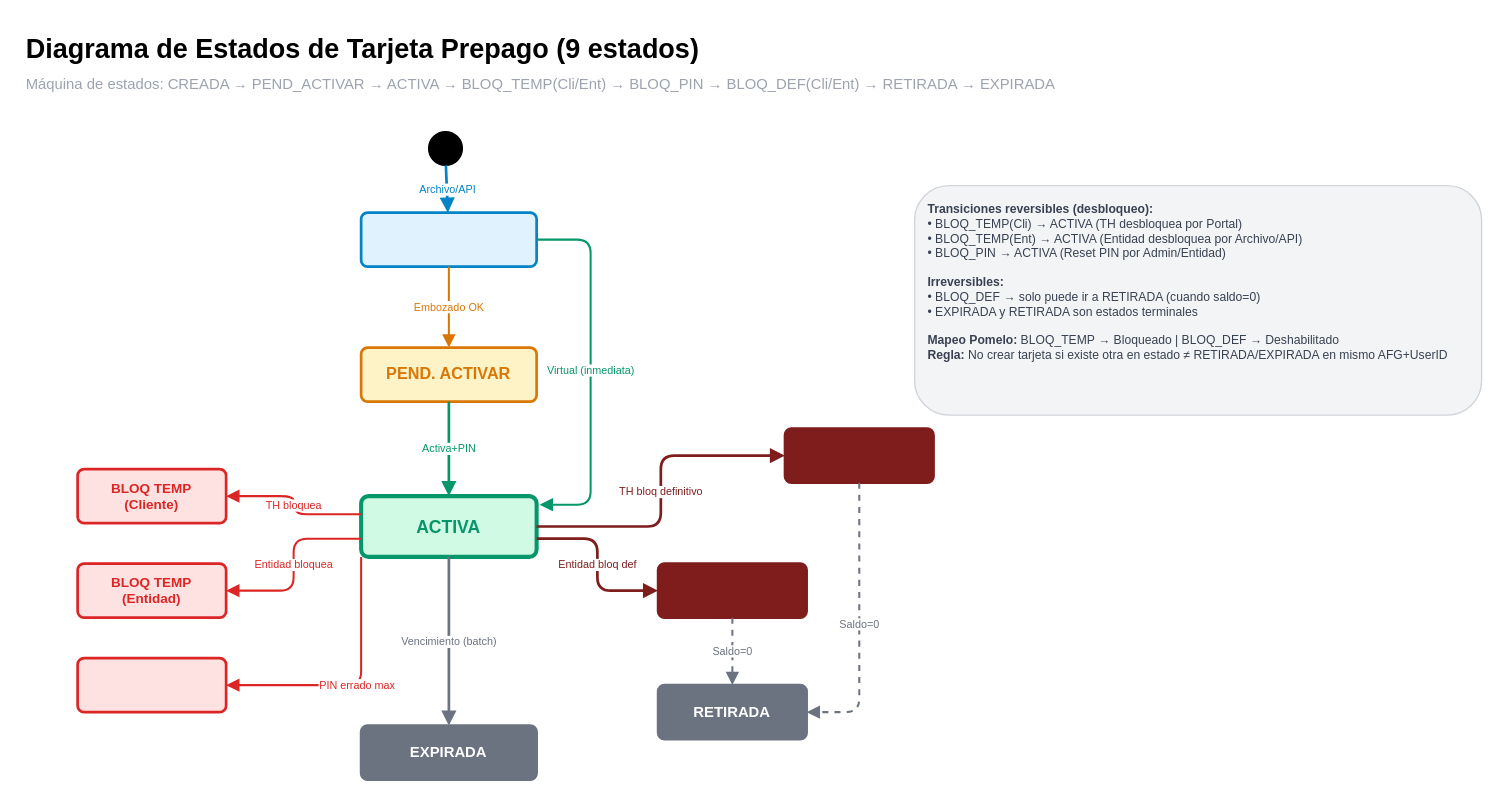
The diagram is 1505 pixels wide and 803 high, and some of its shapes have lost their labels. Here are the shapes that lost their labels. From the top down, the centre of each, then its label:
At (x=448, y=239): "CREADA".
At (x=858, y=455): "BLOQ DEF (Cliente)".
At (x=731, y=590): "BLOQ DEF (Entidad)".
At (x=151, y=684): "BLOQ PIN ERRADO".
